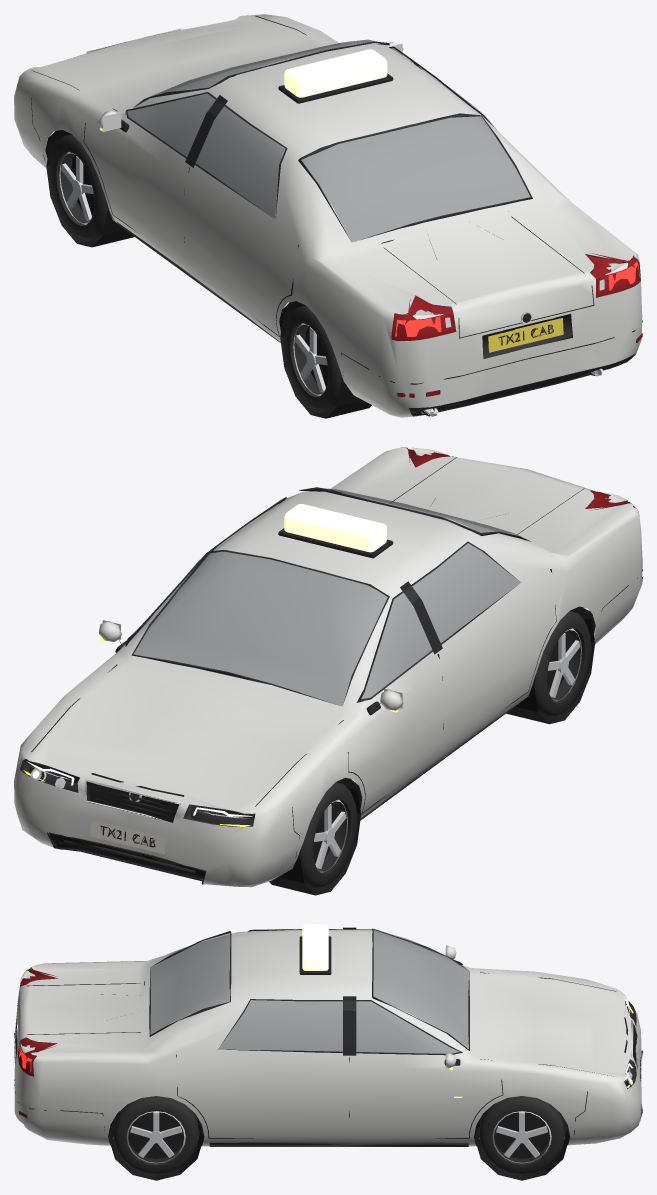
File: car_taxi.glb
The picture shows the model from 3 angles, top to bottom: view 1: azimuth 30°, elevation 25°; view 2: azimuth 150°, elevation 25°; view 3: azimuth 270°, elevation 25°; orthographic projection. The views are drawn at different scales.
Parts seen in each view (by area): view 1: car; view 2: car; view 3: car.
Part boxes in pixels (x1,y1,x2,y2): car: [14, 14, 642, 418]; car: [14, 447, 642, 895]; car: [14, 924, 642, 1180].
Size of the model in its own units: 2.08 by 1.62 by 4.8.
